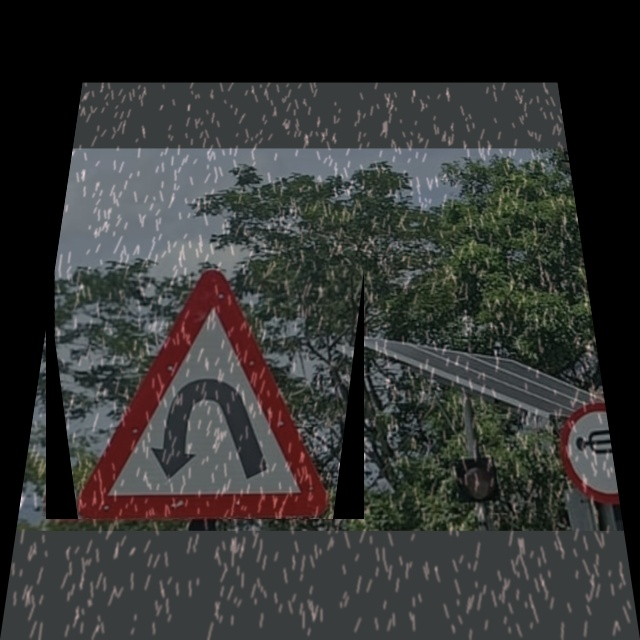Left_Hair_Pin_Bend: (46, 270, 364, 519)
